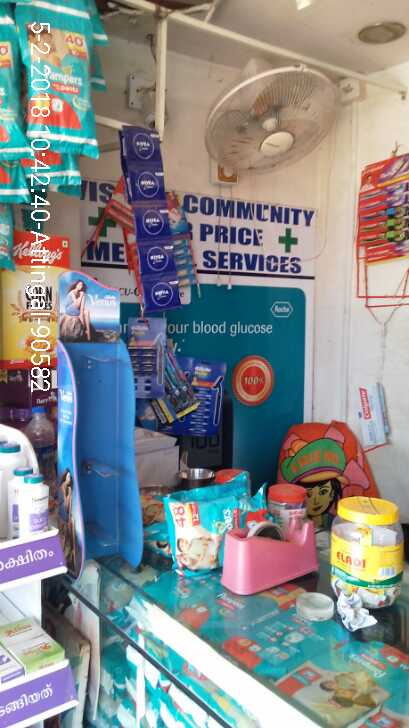pampers: (286, 637, 404, 726), (233, 594, 361, 668), (27, 20, 95, 151), (163, 481, 255, 563), (162, 472, 163, 516)
